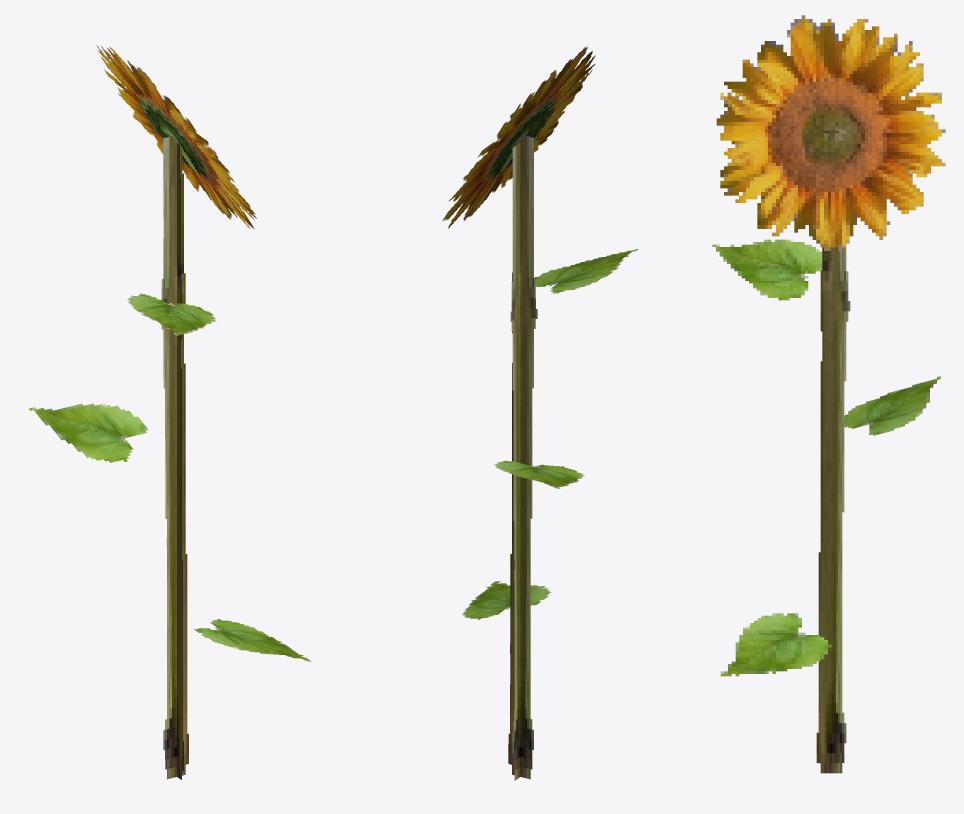
File: sunf2.gltf
3 views of the same model, side by side, from view 1: azimuth 30°, elevation 25°; view 2: azimuth 150°, elevation 25°; view 3: azimuth 270°, elevation 25° (orthographic).
Parts seen in each view (by area): view 1: stalkb, face, leaf2, stalkf, leaf1, leaf3, face.001; view 2: stalkb, face, stalkf, leaf3, leaf1, face.001, leaf2; view 3: face, stalkf, leaf1, leaf3, leaf2.
Part boxes in pixels (left/top/right/bottom): stalkb: left=161, top=136, right=188, bottom=779; face: left=96, top=45, right=256, bottom=228; leaf2: left=29, top=403, right=148, bottom=462; stalkf: left=177, top=143, right=183, bottom=779; leaf1: left=194, top=619, right=311, bottom=661; leaf3: left=127, top=293, right=216, bottom=335; face.001: left=136, top=95, right=209, bottom=178; stalkb: left=508, top=135, right=537, bottom=779; face: left=442, top=46, right=595, bottom=228; stalkf: left=510, top=142, right=520, bottom=780; leaf3: left=534, top=249, right=638, bottom=293; leaf1: left=462, top=581, right=550, bottom=619; face.001: left=485, top=93, right=559, bottom=179; leaf2: left=494, top=460, right=584, bottom=488; face: left=716, top=15, right=945, bottom=250; stalkf: left=816, top=130, right=850, bottom=773; leaf1: left=720, top=613, right=831, bottom=676; leaf3: left=712, top=239, right=822, bottom=300; leaf2: left=844, top=376, right=940, bottom=435.
Size of the model in its own units: 0.5002 by 1.71 by 0.5024.
Materials: 7 (7 with a texture image).
